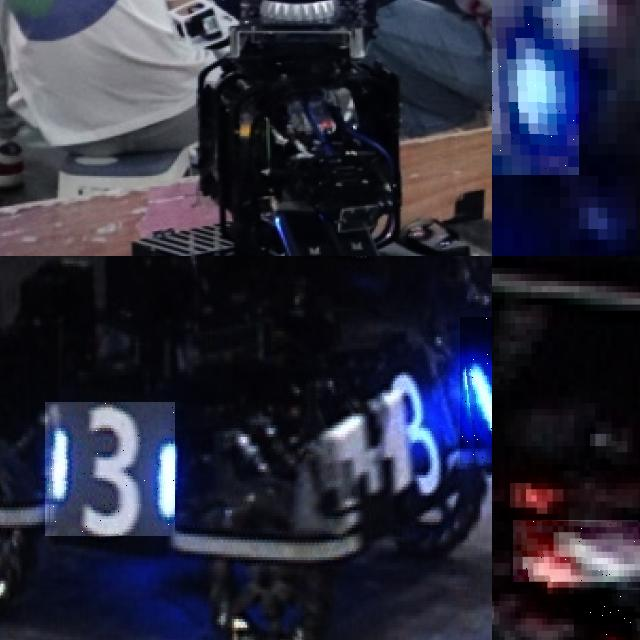B3: (45, 402, 175, 536)
B4: (492, 0, 578, 175), (460, 316, 492, 466)
R1: (512, 520, 640, 581), (573, 590, 640, 640)
